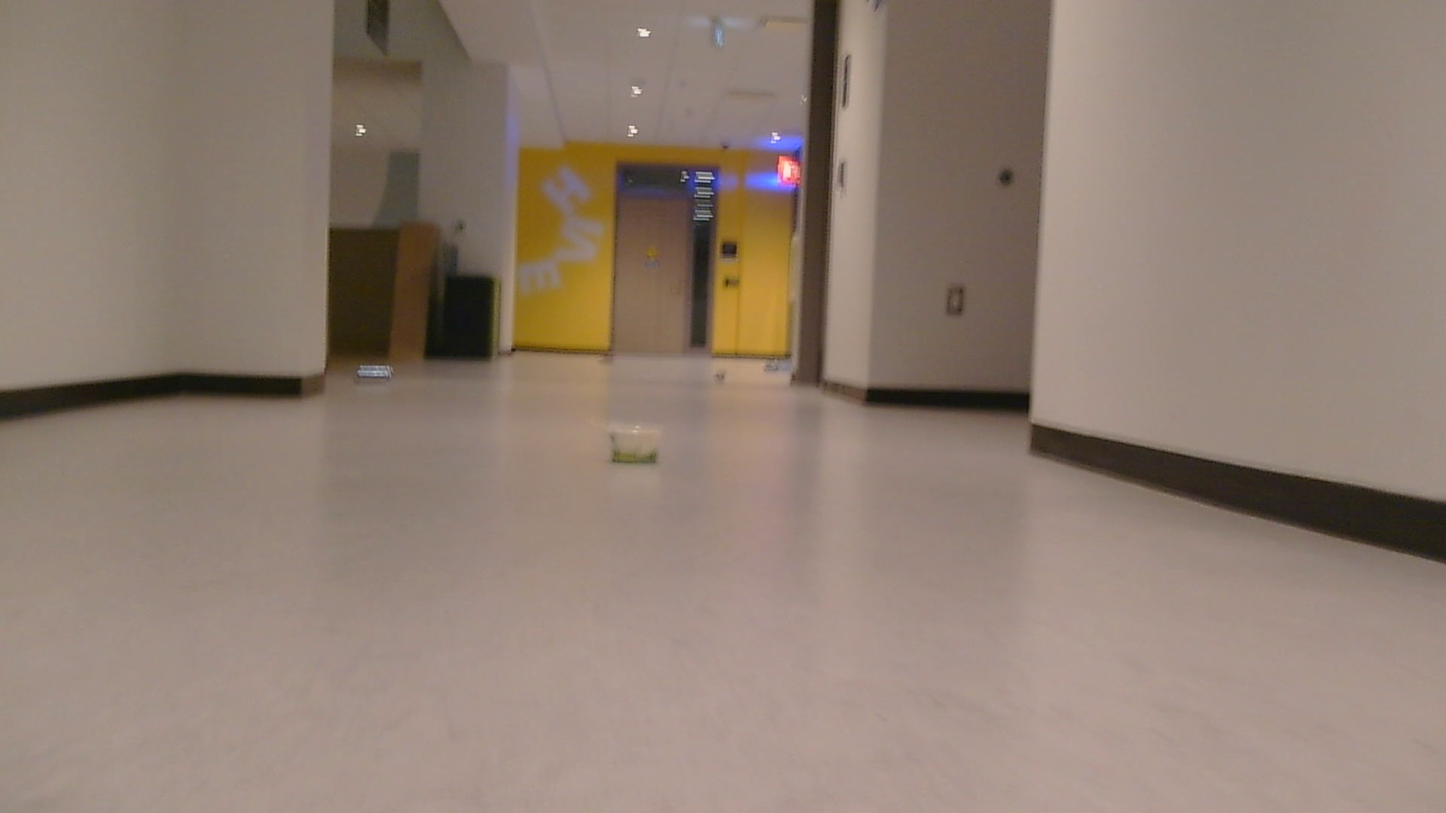carton: (587, 416, 701, 470), (358, 358, 399, 390), (759, 348, 801, 376), (712, 367, 736, 386)
